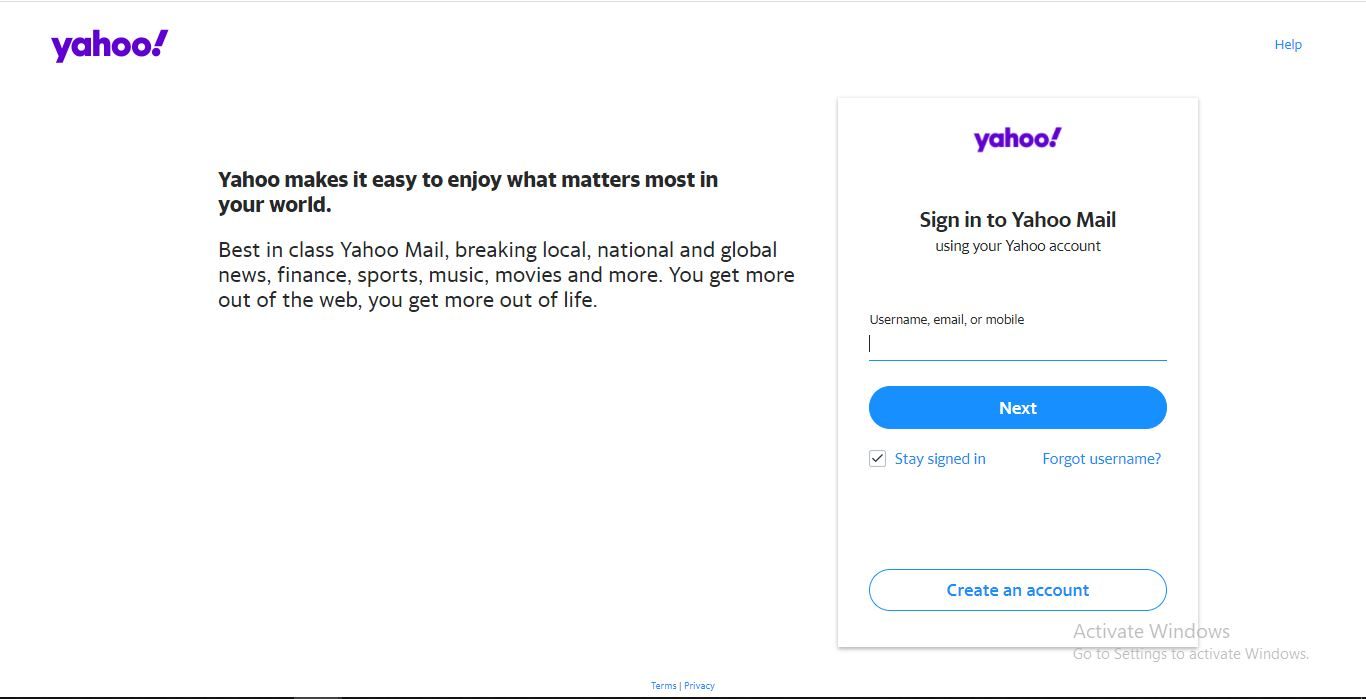Button: (862, 382, 1178, 436), (864, 562, 1172, 613)
Image: (28, 19, 201, 57), (960, 124, 1074, 155)
Nav Bar: (1259, 23, 1319, 60)
Side Bar: (838, 98, 1204, 644)
Text Field: (860, 330, 1179, 367)
